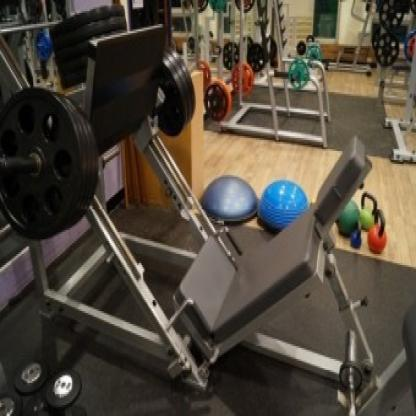leg press: (4, 9, 416, 416)
